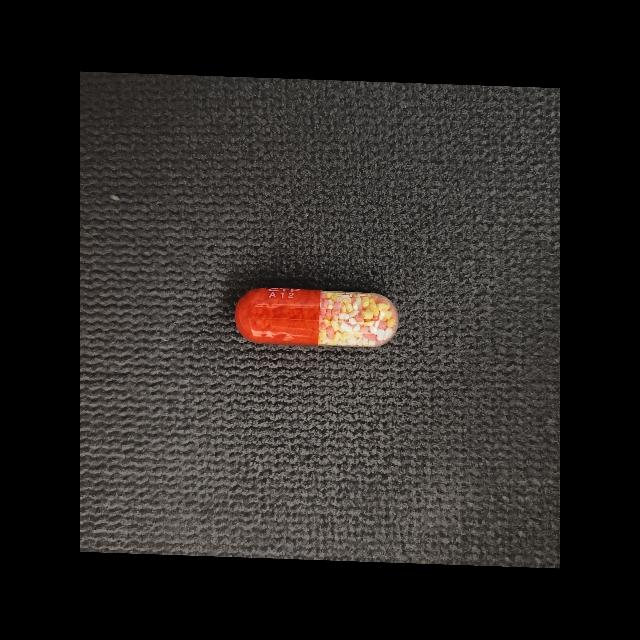Intact Capsule: (235, 288, 398, 347)
